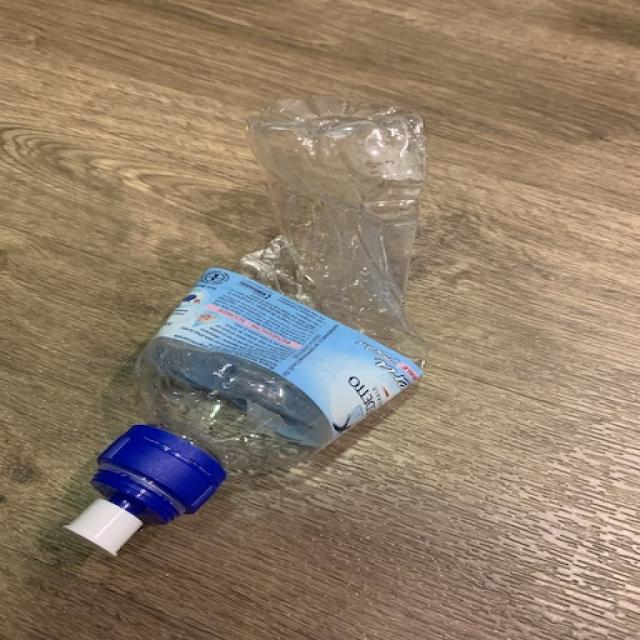Waste: (65, 96, 427, 556)
